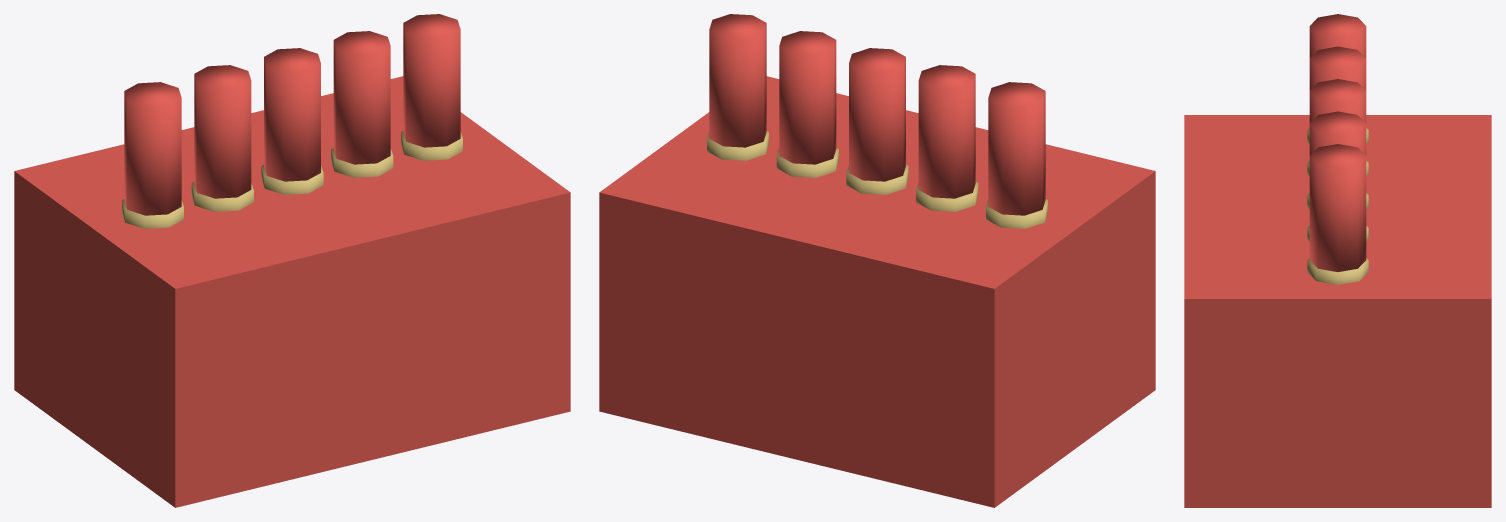
Rendered from ammo_shells.gltf.
3 views of the same model, side by side, from view 1: azimuth 30°, elevation 25°; view 2: azimuth 150°, elevation 25°; view 3: azimuth 270°, elevation 25° (orthographic). The views are drawn at different scales.
Visible parts, largest first — view 1: ammo_shells; view 2: ammo_shells; view 3: ammo_shells.
Boxes of the visible parts, x1,y1,x2,y2 form: ammo_shells: [14, 14, 570, 507]; ammo_shells: [599, 14, 1155, 507]; ammo_shells: [1184, 14, 1491, 507].
Bounding box in the file's own units: 0.34 × 0.28 × 0.24.
